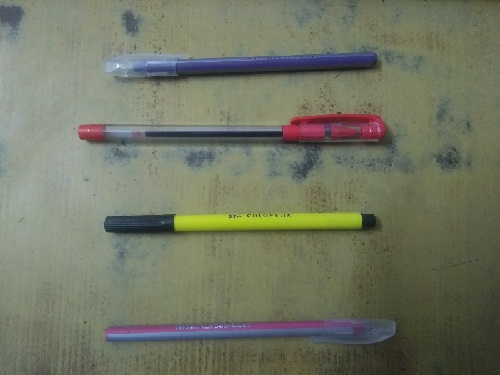pen: (79, 107, 391, 150), (98, 318, 405, 347), (97, 209, 381, 238), (98, 52, 382, 78)
